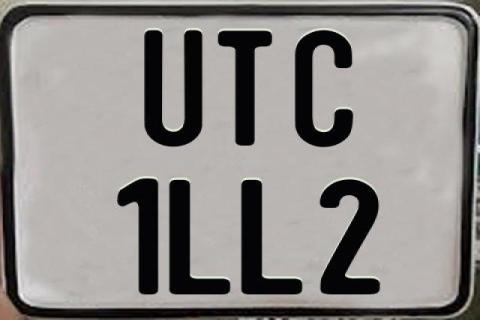0: (318, 177, 380, 297), (114, 178, 156, 294)
C: (295, 30, 353, 150)
L: (167, 178, 231, 294), (240, 180, 302, 294)
T: (215, 28, 270, 146)
U: (142, 30, 206, 152)
